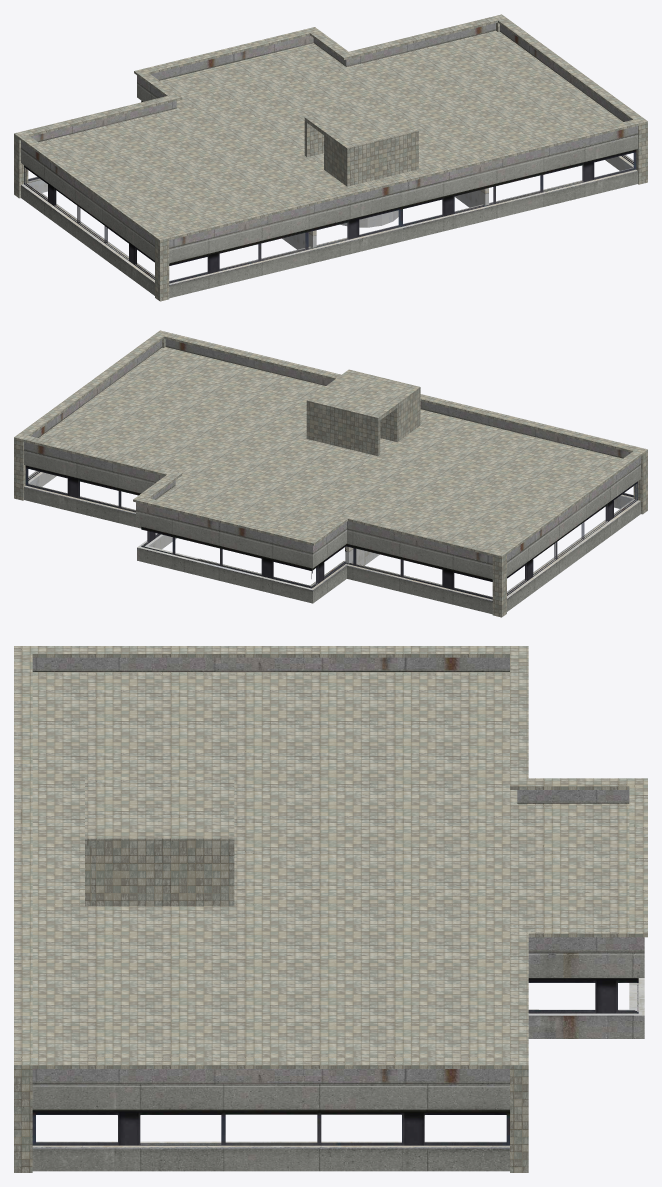
Rendered from BagSS05top_high.fbx.
3 views of the same model, one above another, from view 1: azimuth 30°, elevation 25°; view 2: azimuth 150°, elevation 25°; view 3: azimuth 270°, elevation 25° (orthographic). The views are drawn at different scales.
Parts seen in each view (by area): view 1: topRoof700, topMain700, topShed700, topwalls700; view 2: topRoof700, topMain700, topShed700, topwalls700; view 3: topRoof700, topMain700, topShed700, topwalls700.
Boxes of the visible parts, <box> form: topRoof700: <box>14,14,647,301</box>; topMain700: <box>21,23,637,298</box>; topShed700: <box>304,100,418,186</box>; topwalls700: <box>21,155,637,284</box>; topRoof700: <box>14,330,647,617</box>; topMain700: <box>24,339,640,614</box>; topShed700: <box>306,369,420,456</box>; topwalls700: <box>24,471,640,600</box>; topRoof700: <box>14,646,647,1172</box>; topMain700: <box>32,657,644,1171</box>; topShed700: <box>85,777,234,906</box>; topwalls700: <box>32,978,644,1148</box>.
Bounding box in the file's own units: 42.55 × 7.33 × 27.2.
